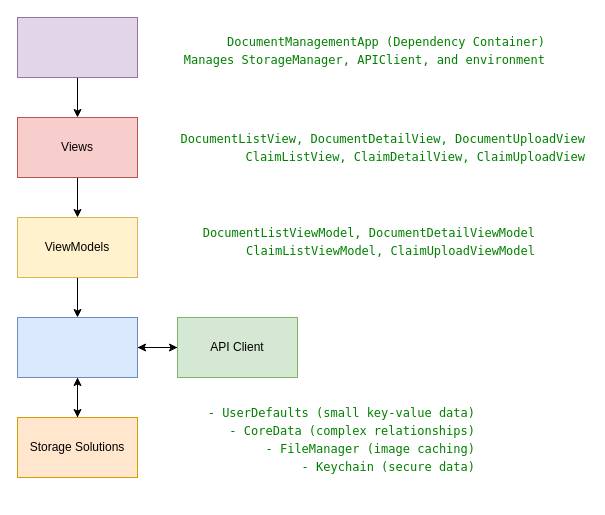
Some shapes in this 605 by 515 pixel diagram are drawn without their labels. Here are the shapes that lost their labels. From the top down, the centre of each, then its label:
pixel 77 47: App
pixel 77 347: Managers
